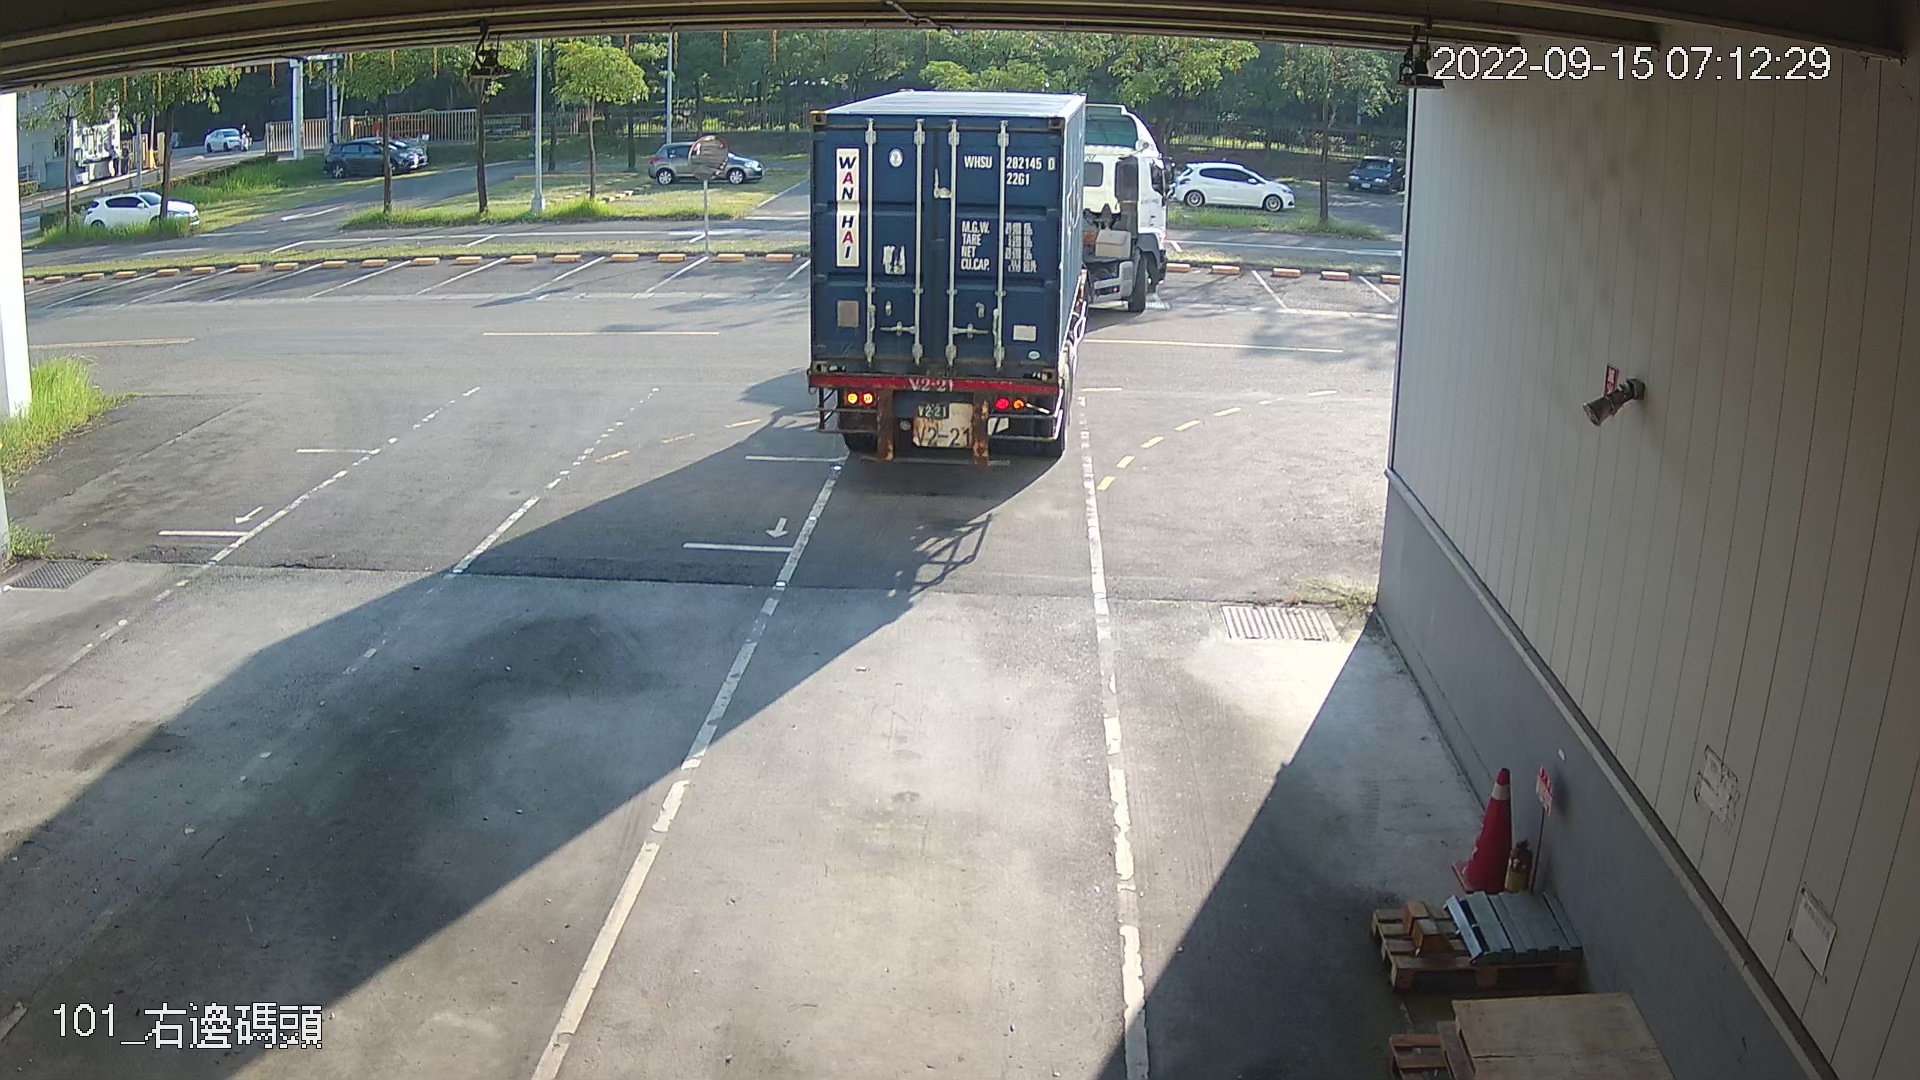container: (957, 146, 1059, 194)
